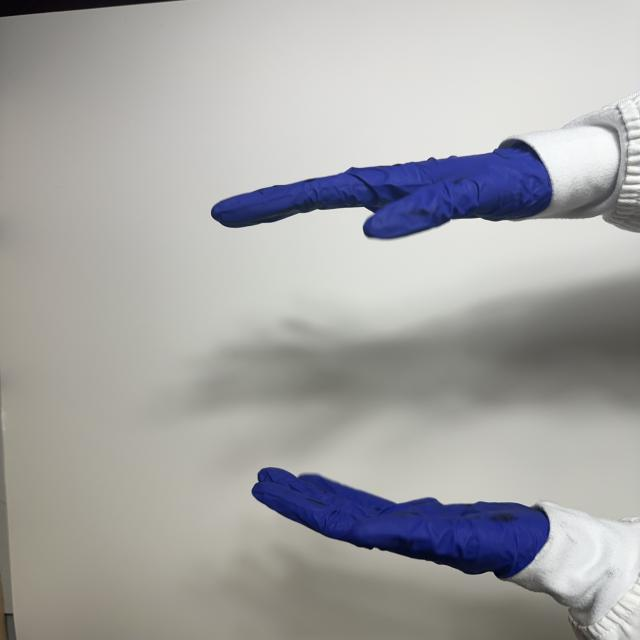gloves_contaminated: (252, 468, 550, 578), (212, 146, 551, 238)
